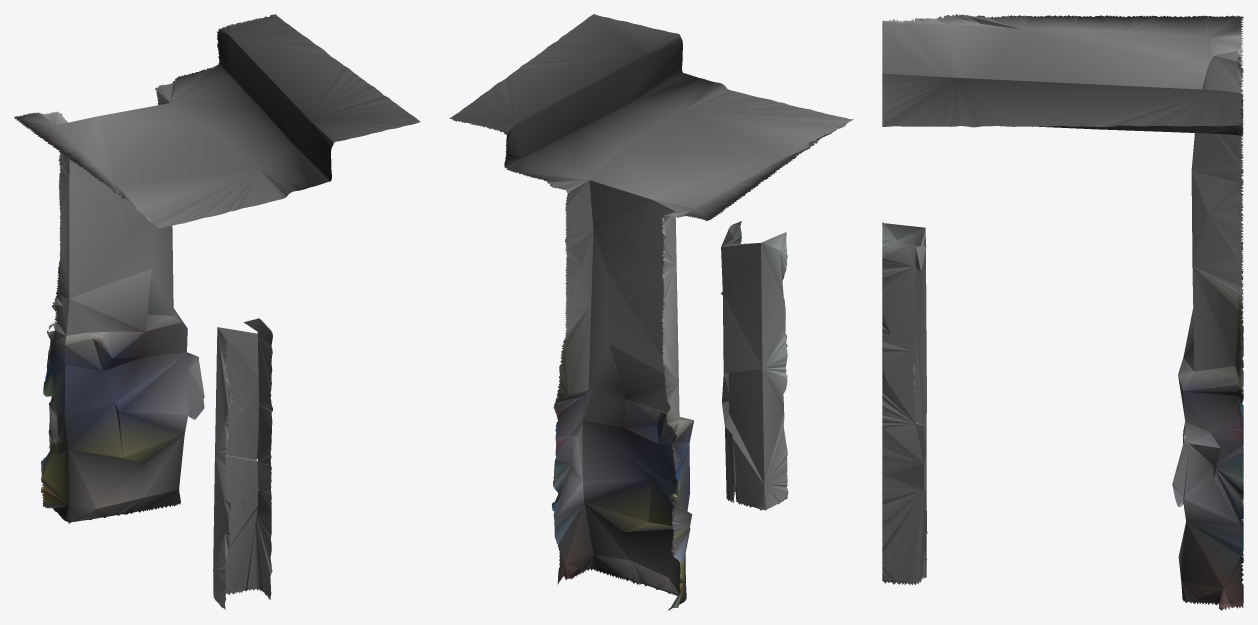
The model's file is coarse.glb.
3 views of the same model, side by side, from view 1: azimuth 30°, elevation 25°; view 2: azimuth 150°, elevation 25°; view 3: azimuth 270°, elevation 25° (orthographic). The views are drawn at different scales.
Size of the model in its own units: 1.22 by 1.97 by 1.17.
